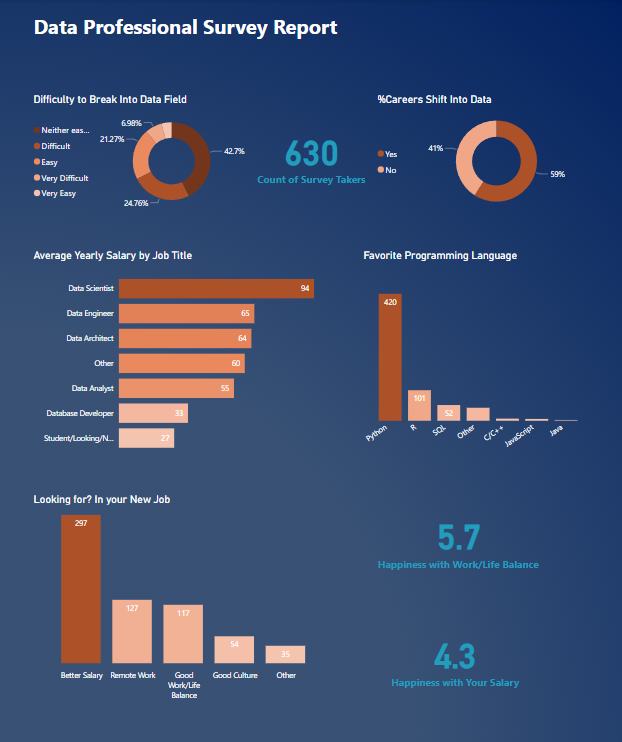

What the dashboard file says about the page in this screenshot:
{"tool":"powerbi","page":{"name":"Page 1","canvas":[1000,1200],"ordinal":0},"visuals":[{"type":"card","fields":{"Values":["CountNonNull(Data Professional Survey.Unique ID)"]},"box":[400,187.5,200,123.8],"z":0},{"type":"barChart","title":"Average Yearly Salary by Job Title","fields":{"Y":["Avg(Data Professional Survey.Avg Salary)"],"Category":["Data Professional Survey.Q1 - Which Title Best Fits your Current Role?.1"]},"box":[50,400,480,340],"z":1000},{"type":"columnChart","title":"Favorite Programming Language","fields":{"Category":["Data Professional Survey.Q5 - Favorite Programming Language.1.1"],"Y":["CountNonNull(Data Professional Survey.Unique ID)"]},"box":[577.5,400,372.5,340],"z":2000},{"type":"card","fields":{"Values":["Avg(Data Professional Survey.Q6 - How Happy are you in your Current Position with the following? (Salary))"]},"box":[600,980,260,150],"z":3000},{"type":"card","fields":{"Values":["Avg(Data Professional Survey.Q6 - How Happy are you in your Current Position with the following? (Work/Life Balance))"]},"box":[600,790,270,150],"z":4000},{"type":"donutChart","title":"Difficulty to Break Into Data Field","fields":{"Category":["Data Professional Survey.Q7 - How difficult was it for you to break into Data?"],"Y":["CountNonNull(Data Professional Survey.Unique ID)"]},"box":[50,150,350,200],"z":5000},{"type":"pieChart","title":"%Careers Shift Into Data","fields":{"Category":["Data Professional Survey.Q2 - Did you switch careers into Data?"],"Y":["CountNonNull(Data Professional Survey.Unique ID)"]},"box":[600,150,350,200],"z":6000},{"type":"columnChart","title":"Looking for? In your New Job","fields":{"Y":["CountNonNull(Data Professional Survey.Unique ID)"],"Category":["Data Professional Survey.Q8 - If you were to look for a new job today, what would be the most important t"]},"box":[50,790,480,340],"z":7000},{"type":"textbox","box":[50,15,527.5,73.8],"z":8000}]}

Visuals, with their boxes in screenshot pixels (x1, y1, x2, y2), scaled from the page's 1000x1200 canvas onto the 622x742 screenshot:
card - CountNonNull(Data Professional Survey.Unique ID): {"left": 249, "top": 116, "right": 373, "bottom": 192}
"Average Yearly Salary by Job Title" barChart: {"left": 31, "top": 247, "right": 330, "bottom": 458}
"Favorite Programming Language" columnChart: {"left": 359, "top": 247, "right": 591, "bottom": 458}
card - Avg(Data Professional Survey.Q6 - How Happy are you in your Current Position with the following? (Salary)): {"left": 373, "top": 606, "right": 535, "bottom": 699}
card - Avg(Data Professional Survey.Q6 - How Happy are you in your Current Position with the following? (Work/Life Balance)): {"left": 373, "top": 488, "right": 541, "bottom": 581}
"Difficulty to Break Into Data Field" donutChart: {"left": 31, "top": 93, "right": 249, "bottom": 216}
"%Careers Shift Into Data" pieChart: {"left": 373, "top": 93, "right": 591, "bottom": 216}
"Looking for? In your New Job" columnChart: {"left": 31, "top": 488, "right": 330, "bottom": 699}
textbox: {"left": 31, "top": 9, "right": 359, "bottom": 55}
